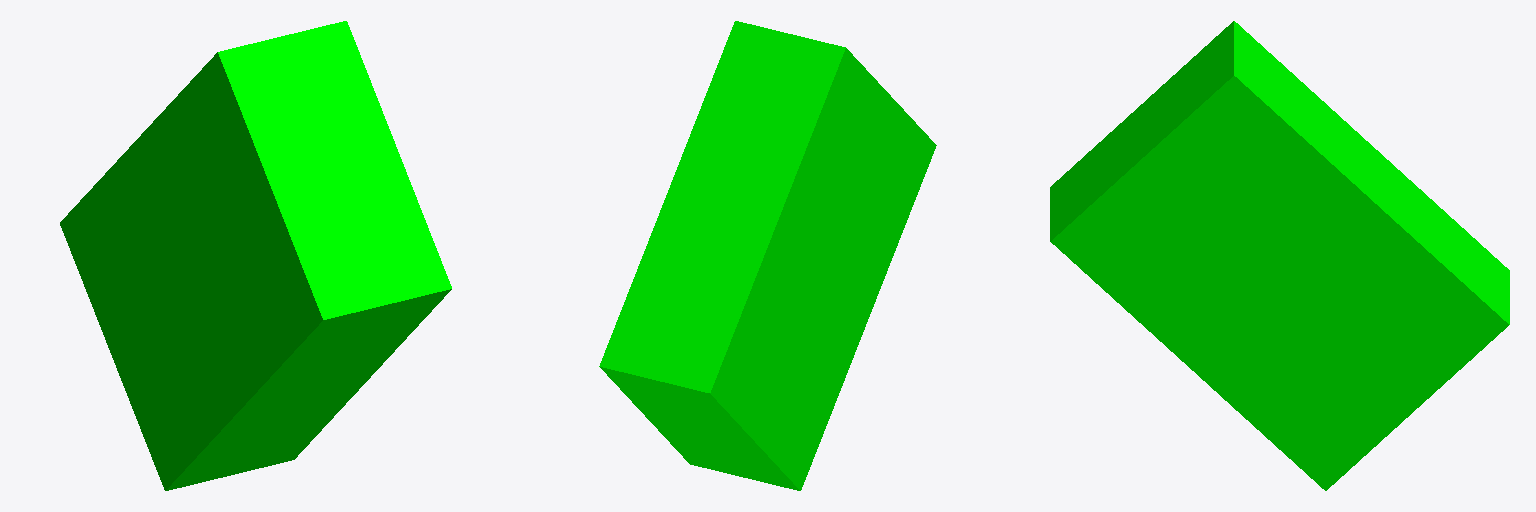
The robot description file, URDF, robot "origin":
<?xml version="1.0" encoding="utf-8" ?>
<robot name="origin">
    <link name="base_link">
        <visual>
            <geometry>
                <box size="0.1 0.2 0.3"></box>
            </geometry>
            <material name="green">
                <color rgba="0 1 0 0.5"></color>
            </material>
            <origin xyz="0.1 0.2 0.3" rpy="0.785 0 0"></origin>
        </visual>
    </link>
</robot>

--- Render facts (derived) ---
Views: 3 orthographic renders of the robot side by side, from view 1: azimuth 30°, elevation 25°; view 2: azimuth 150°, elevation 25°; view 3: azimuth 270°, elevation 25°.
Model origin with 1 links and 0 joints (none), rooted at base_link, posed every joint at zero.
Links seen in each view (by area): view 1: base_link; view 2: base_link; view 3: base_link.
Boxes of the visible links, box(x1,y1,x2,y2) form: base_link: box(60, 21, 451, 490); base_link: box(599, 21, 936, 490); base_link: box(1050, 21, 1509, 490).
Size in the robot's own frame: 0.1 by 0.3535 by 0.3536 metres.
Geometry: primitives only (box / cylinder / sphere), no mesh files.
